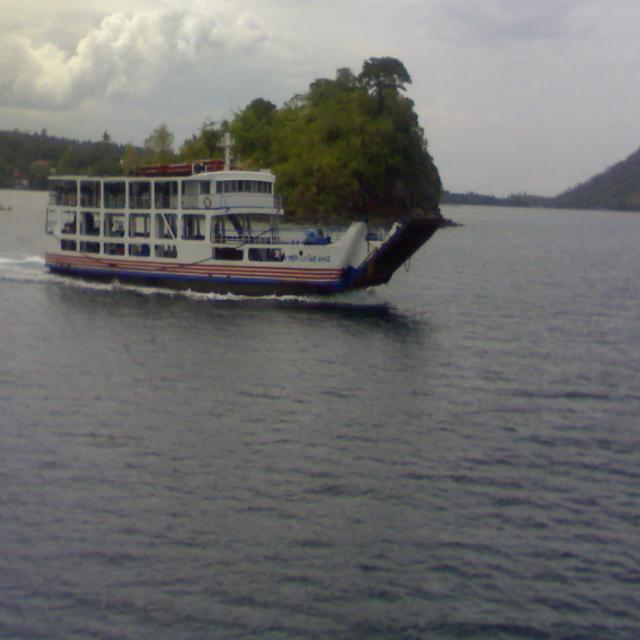houseboat: (35, 133, 464, 302)
